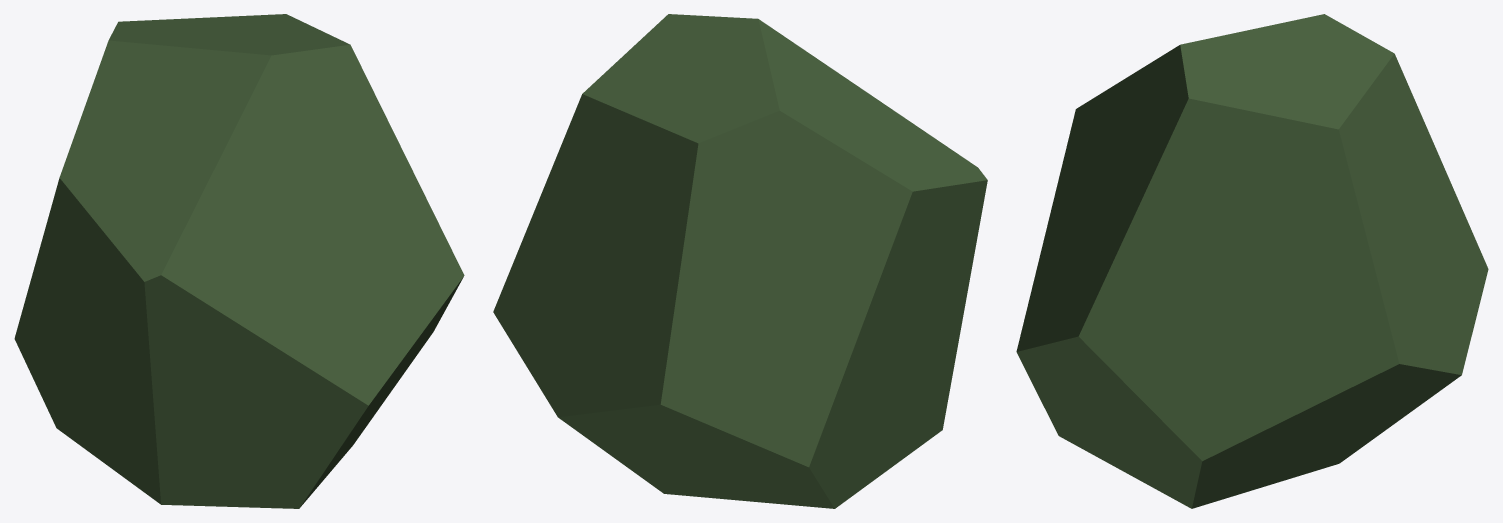
Rendered from StoneSmall2.fbx.
3 views of the same model, side by side, from view 1: azimuth 30°, elevation 25°; view 2: azimuth 150°, elevation 25°; view 3: azimuth 270°, elevation 25° (orthographic). The views are drawn at different scales.
Parts seen in each view (by area): view 1: StoneSmall2; view 2: StoneSmall2; view 3: StoneSmall2.
Boxes of the visible parts, left/top/right/bottom form: StoneSmall2: left=14, top=14, right=464, bottom=508; StoneSmall2: left=493, top=14, right=987, bottom=508; StoneSmall2: left=1016, top=14, right=1488, bottom=508.
Bounding box in the file's own units: 151 × 170 × 173.
1 material, 1 textured.
